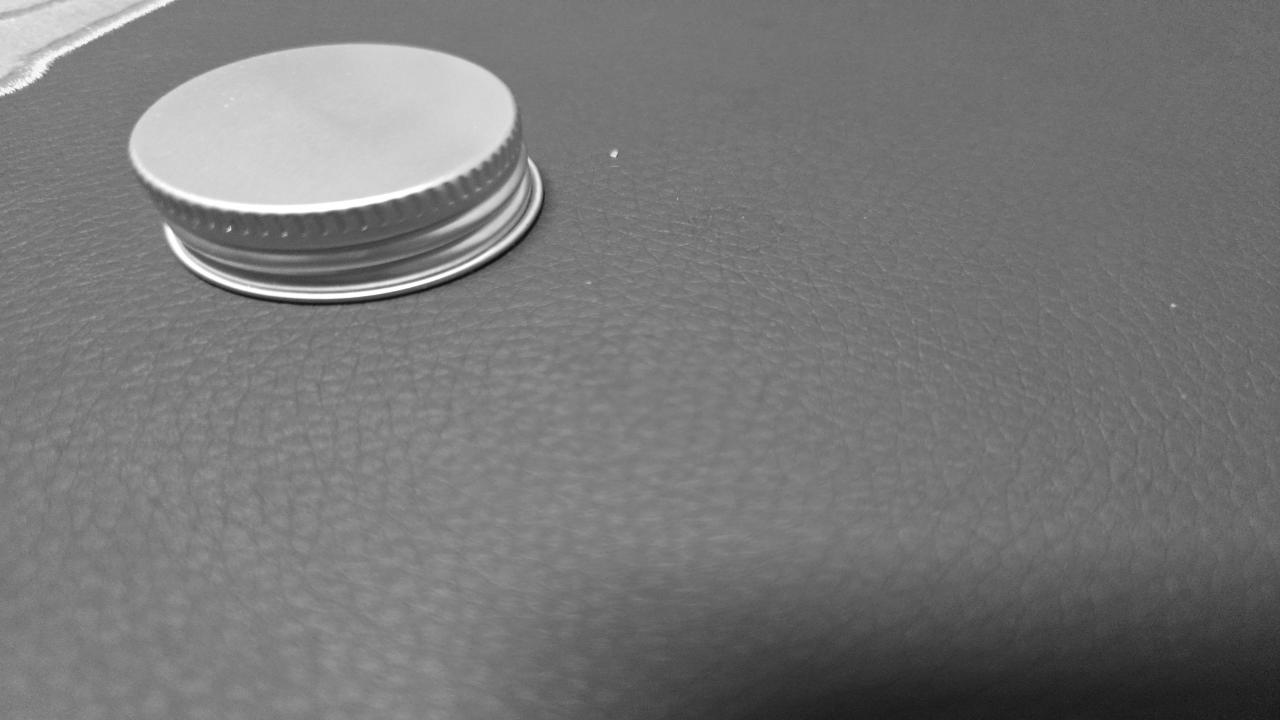bottle_cap: (130, 42, 546, 305)
